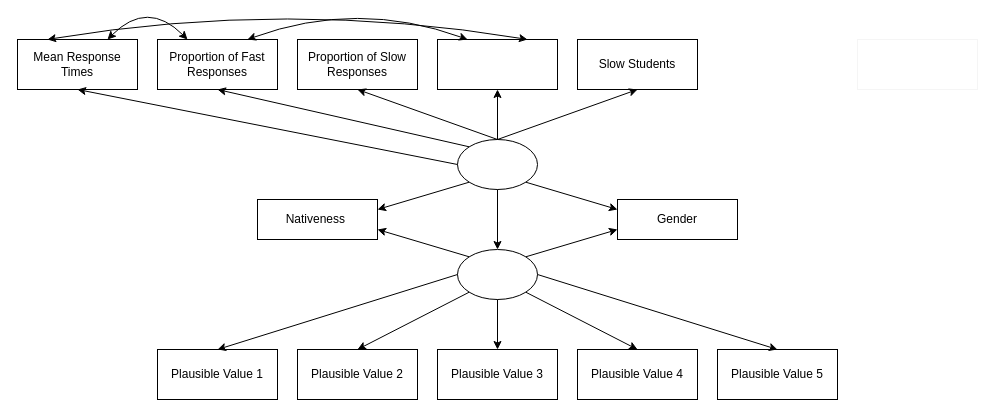
This 995x418 diagram has some shape labels left out. The box of each missing label's shape, as (x1, y1, x2, y2) in pixels:
Ability: (456, 248, 538, 300)
Fast Students: (436, 38, 558, 90)
Motivation: (456, 138, 538, 190)
